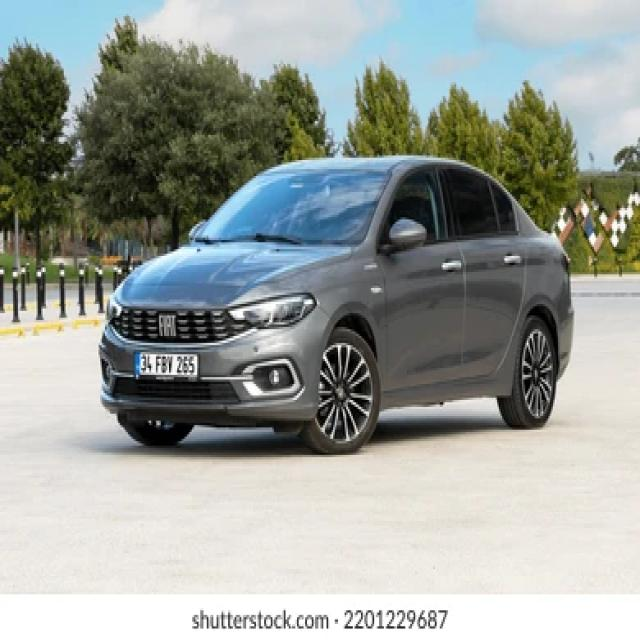fiat: (152, 310, 182, 344)
